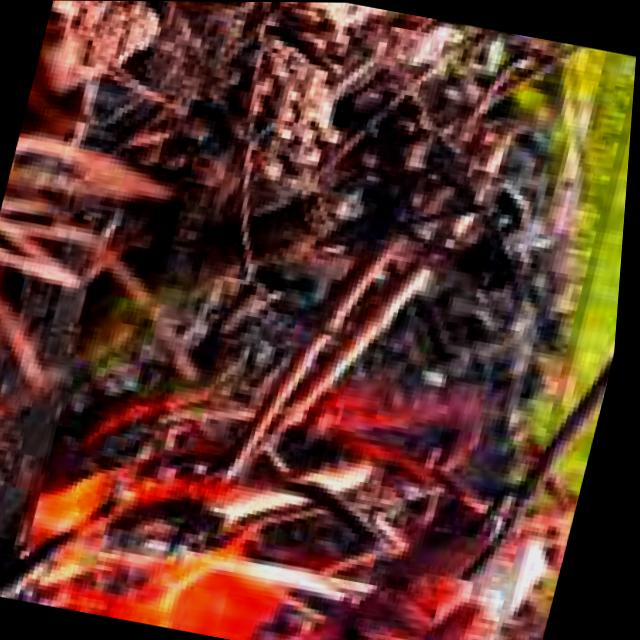fire: (15, 0, 640, 640)
